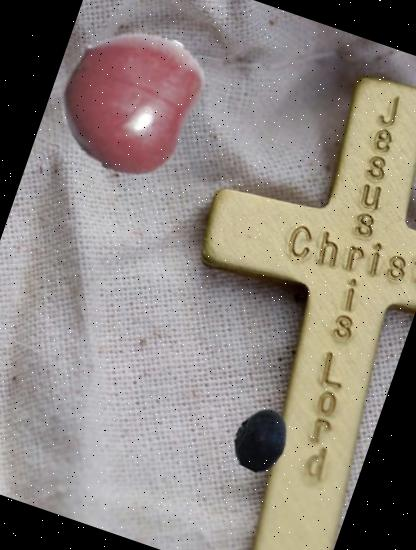Blueberry: (221, 399, 302, 480)
Cherry: (38, 5, 224, 191)
